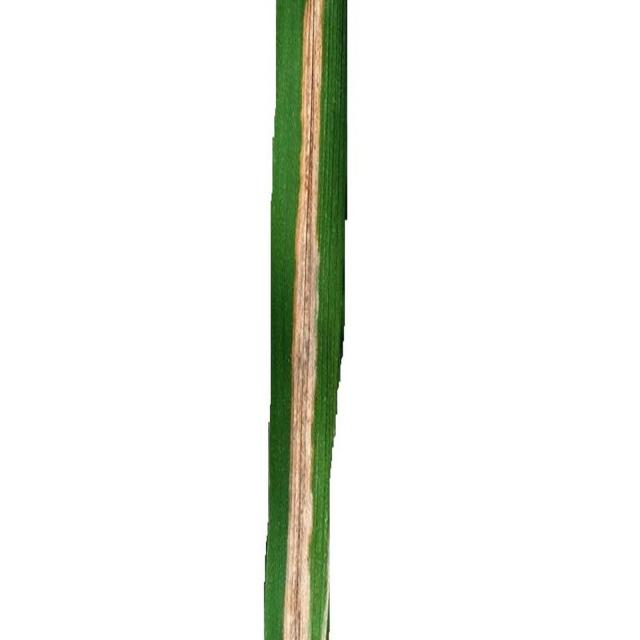Bacterial leaf blight: (284, 0, 323, 640)
